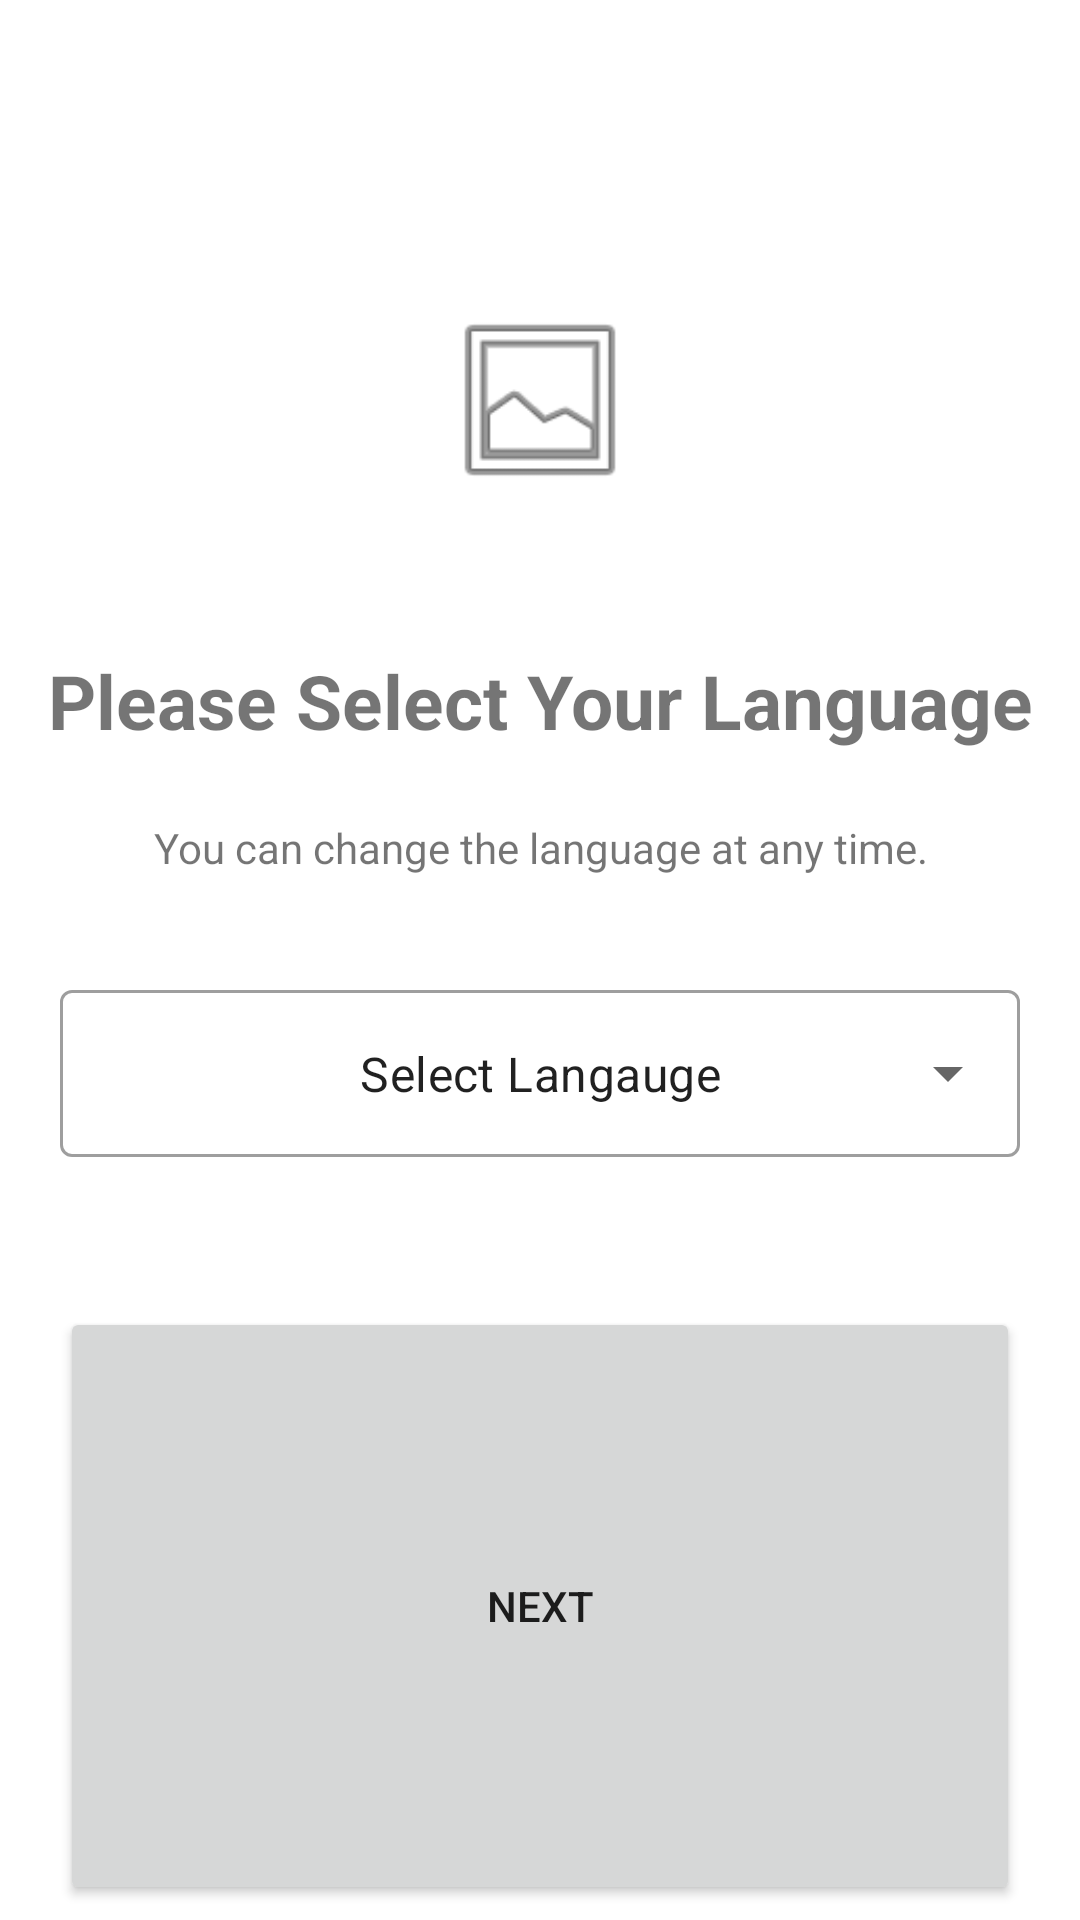

Where to tap for icons on this 1080 x 1920 app screen, as (x,y):
gallery: (540,400)
